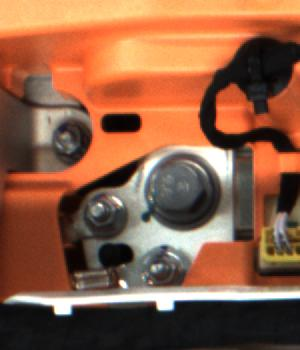nut_b: (142, 149, 221, 229)
